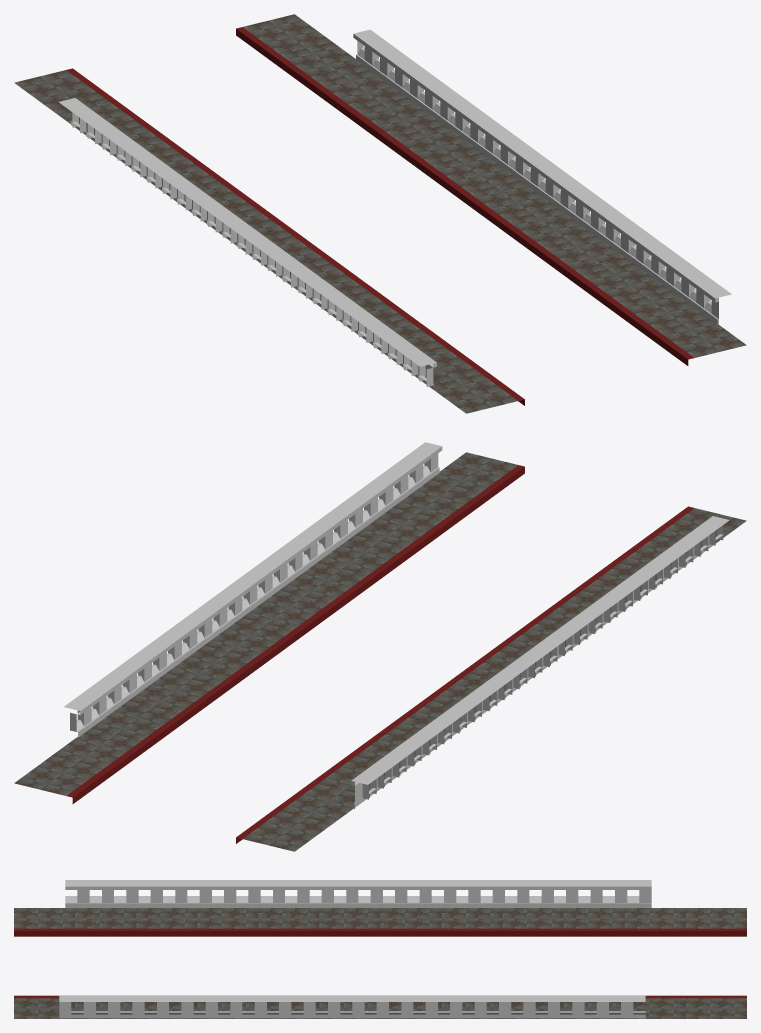
Rendered from SideWalker_Achaval R y Cañada.fbx.
3 views of the same model, one above another, from view 1: azimuth 30°, elevation 25°; view 2: azimuth 150°, elevation 25°; view 3: azimuth 270°, elevation 25° (orthographic). The views are drawn at different scales.
Parts seen in each view (by area): view 1: Cañada.003; view 2: Cañada.003; view 3: Cañada.003.
Part boxes in pixels (x1,y1,x2,y2): Cañada.003: (14,14,746,413); Cañada.003: (14,442,746,851); Cañada.003: (14,880,746,1018).
Size of the model in its own units: 23.61 by 2.5 by 60.
